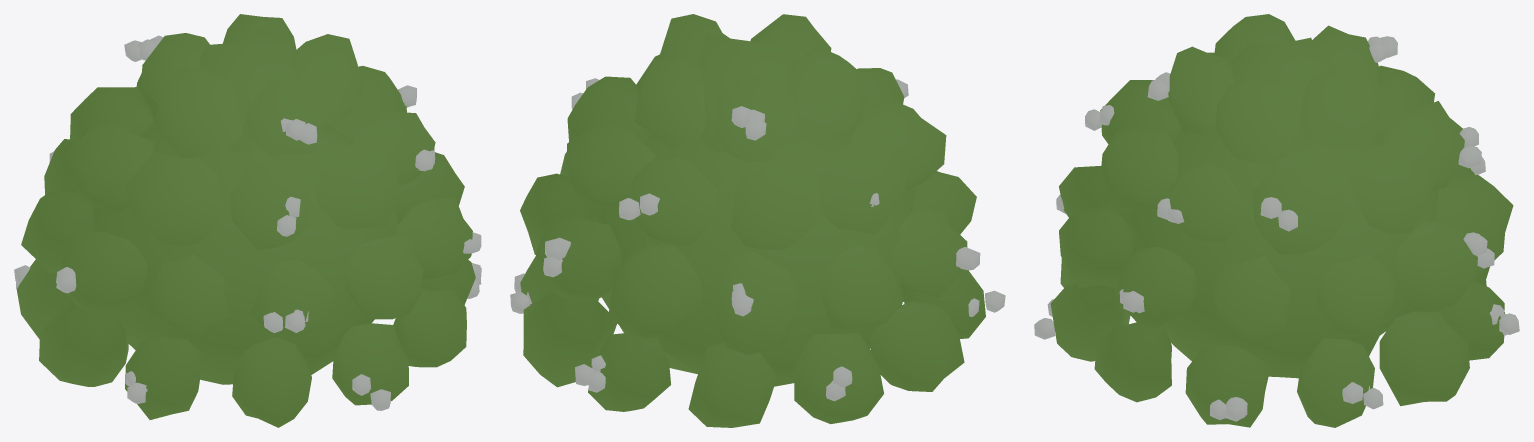
File: Blender_Bayberry_1.glb
3 views of the same model, side by side, from view 1: azimuth 30°, elevation 25°; view 2: azimuth 150°, elevation 25°; view 3: azimuth 270°, elevation 25° (orthographic).
Parts seen in each view (by area): view 1: Blender_Bayberry_1; view 2: Blender_Bayberry_1; view 3: Blender_Bayberry_1.
Part boxes in pixels (bbox=[...]): Blender_Bayberry_1: bbox=[14, 14, 481, 427]; Blender_Bayberry_1: bbox=[510, 14, 1005, 427]; Blender_Bayberry_1: bbox=[1034, 14, 1519, 427].
Size of the model in its own units: 2.41 by 1.76 by 2.41.
